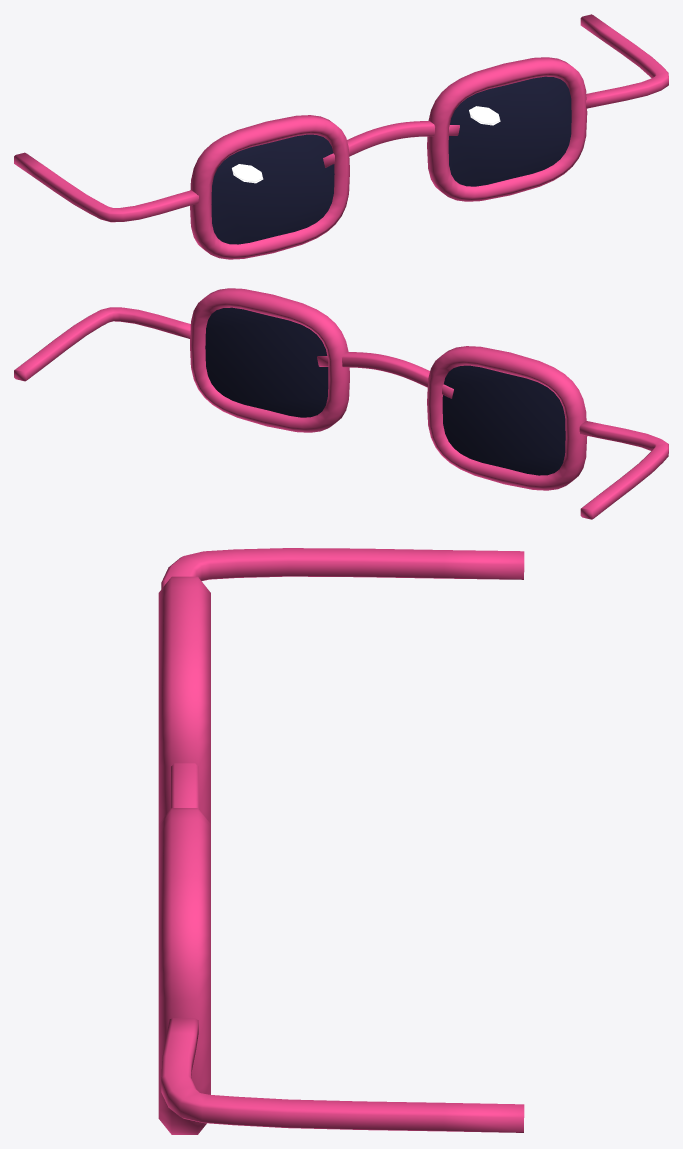
The model's file is sunglasses-bunny.glb.
The picture shows the model from 3 angles, top to bottom: view 1: azimuth 30°, elevation 25°; view 2: azimuth 150°, elevation 25°; view 3: azimuth 270°, elevation 25°; orthographic projection. The views are drawn at different scales.
Parts seen in each view (by area): view 1: lens.001, lens, rim, rim.001, temple.001, temple, bridge, shine, shine.001; view 2: lens.001, lens, rim.001, rim, temple, temple.001, bridge; view 3: rim, temple, rim.001, temple.001, bridge.
Part boxes in pixels (<box>): lens.001: <box>211,134,334,244</box>; lens: <box>448,76,571,186</box>; rim: <box>427,57,587,201</box>; rim.001: <box>190,115,349,259</box>; temple.001: <box>14,152,198,222</box>; temple: <box>580,14,668,108</box>; bridge: <box>323,121,459,167</box>; shine: <box>469,106,500,125</box>; shine.001: <box>232,164,263,183</box>; lens.001: <box>442,365,565,475</box>; lens: <box>205,307,328,417</box>; rim.001: <box>427,346,587,490</box>; rim: <box>190,288,349,432</box>; temple: <box>14,307,190,381</box>; temple.001: <box>579,421,668,519</box>; bridge: <box>317,352,453,398</box>; rim: <box>158,808,210,1134</box>; temple: <box>161,1018,524,1132</box>; rim.001: <box>158,576,210,823</box>; temple.001: <box>161,548,524,588</box>; bridge: <box>171,763,198,808</box>.
Bounding box in the file's own units: 1.33 × 0.2784 × 0.3633.
